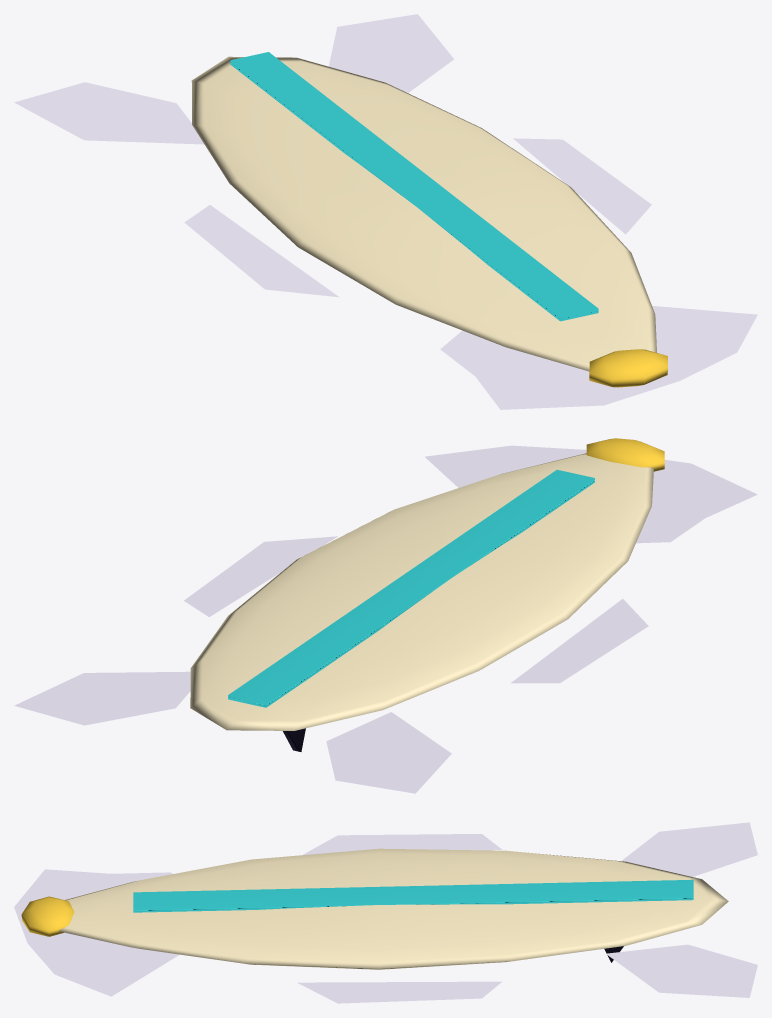
File: surfboard_ride.glb
The picture shows the model from 3 angles, top to bottom: view 1: azimuth 30°, elevation 25°; view 2: azimuth 150°, elevation 25°; view 3: azimuth 270°, elevation 25°; orthographic projection. The views are drawn at different scales.
Parts seen in each view (by area): view 1: Board.001; view 2: Board.001; view 3: Board.001.
Part boxes in pixels (x1,y1,x2,y2): Board.001: [14, 14, 757, 409]; Board.001: [14, 438, 757, 793]; Board.001: [14, 822, 757, 1003].
Bounding box in the file's own units: 0.9597 × 0.1996 × 1.81.
